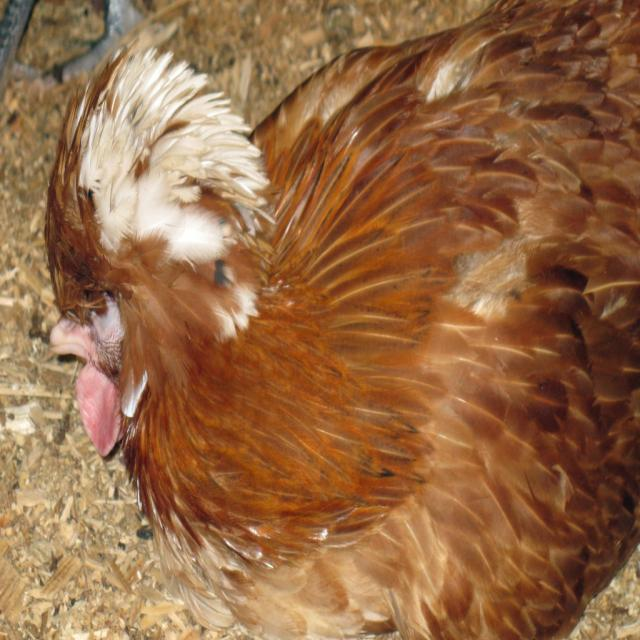Chicken: (44, 0, 640, 640)
